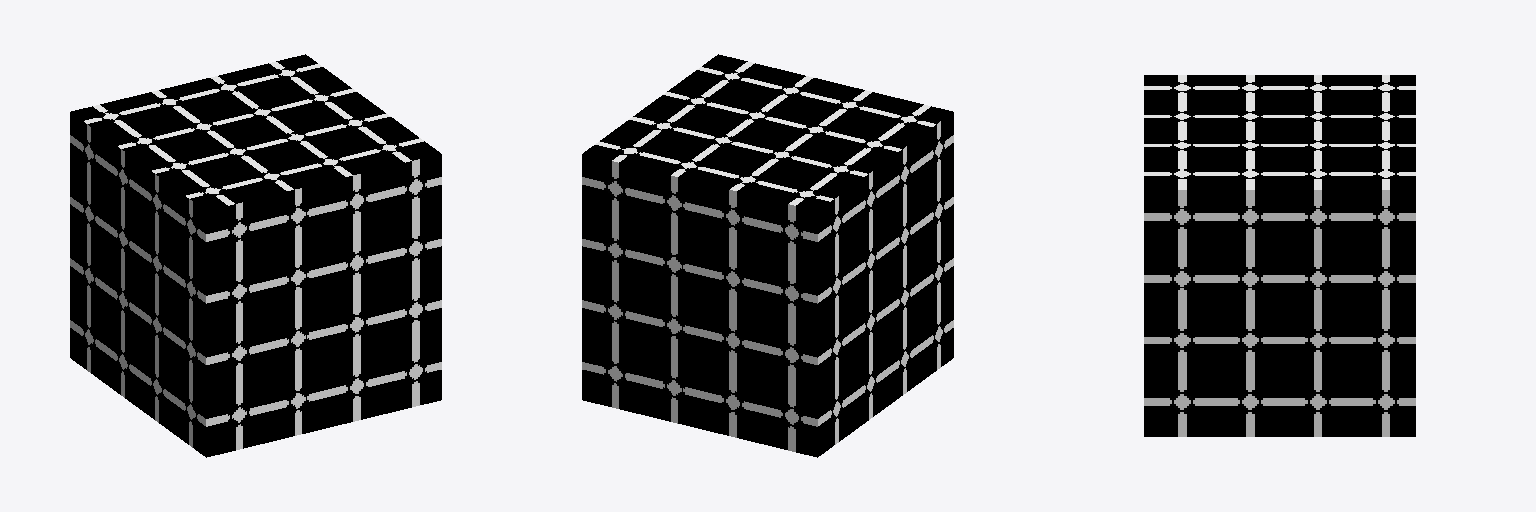
The picture shows the model from 3 angles: view 1: azimuth 30°, elevation 25°; view 2: azimuth 150°, elevation 25°; view 3: azimuth 270°, elevation 25°; orthographic projection.
Parts seen in each view (by area): view 1: Cube; view 2: Cube; view 3: Cube.
Boxes of the visible parts, x1,y1,x2,y2 form: Cube: [70, 54, 441, 457]; Cube: [582, 54, 953, 457]; Cube: [1144, 75, 1415, 436].
Bounding box in the file's own units: 2 × 2 × 2.
1 materials, 1 textured.